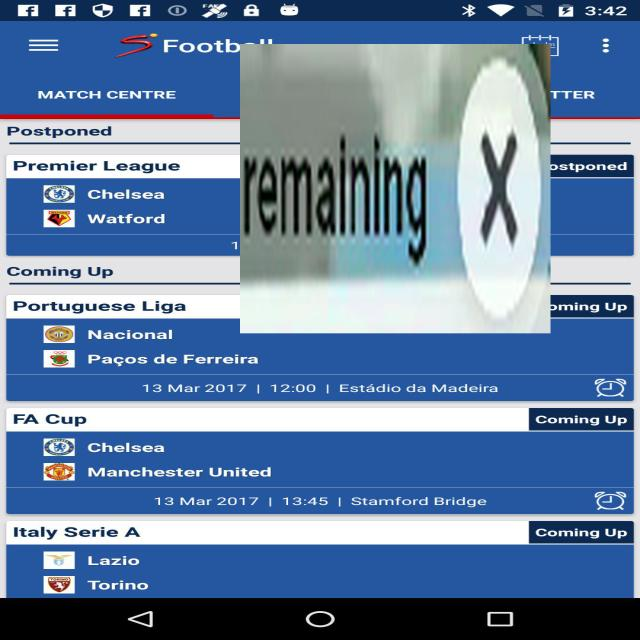misdirection: (240, 44, 551, 333)
